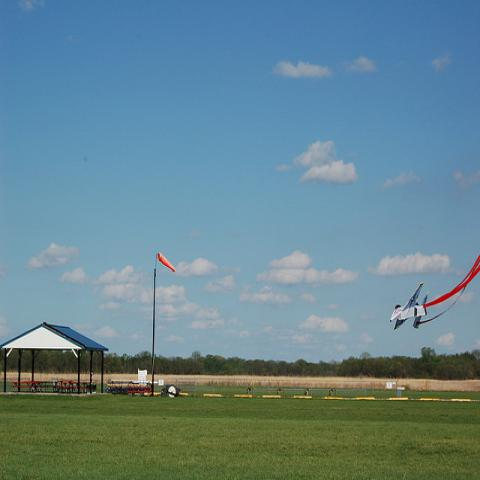bus: (203, 394, 222, 397)
